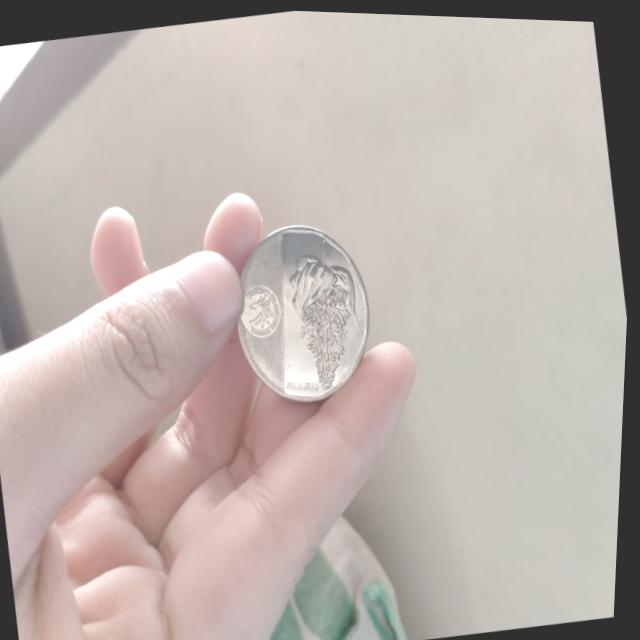10_New_Back: (269, 227, 385, 404)
